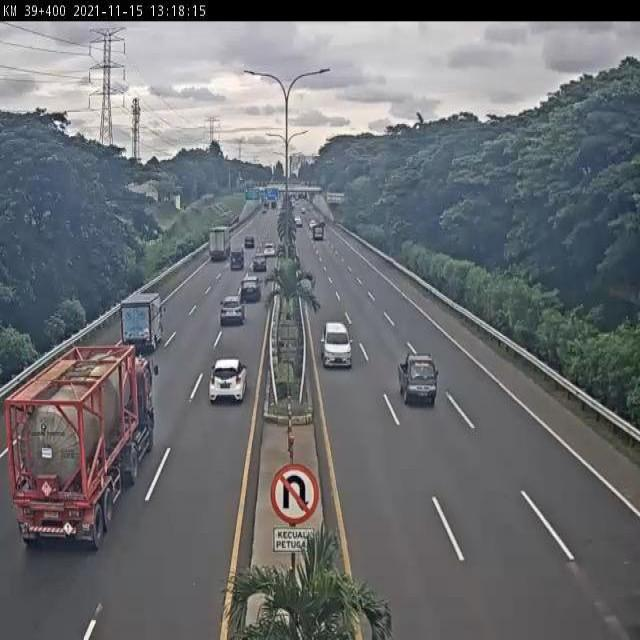car: (206, 355, 250, 409), (320, 320, 352, 368), (218, 294, 245, 326), (240, 275, 263, 304)
truck-s-: (119, 290, 164, 354), (397, 351, 439, 406)
truck-xl-: (4, 342, 155, 546)
